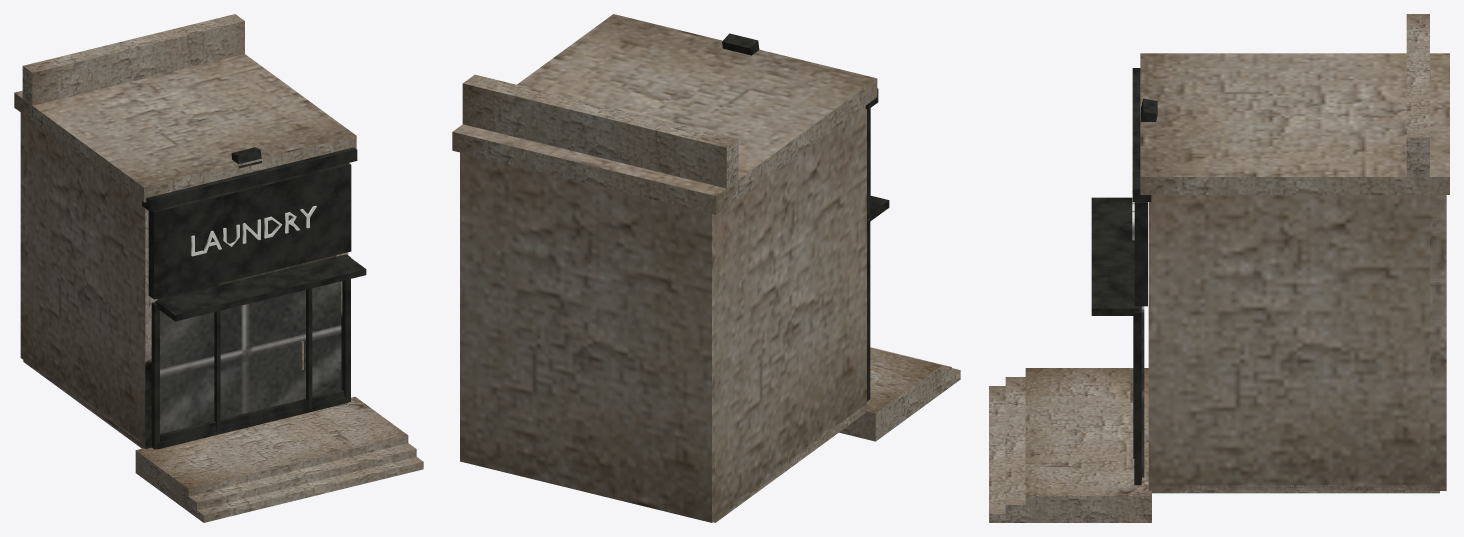
The model's file is Laundry.fbx.
The picture shows the model from 3 angles, left to right: view 1: azimuth 30°, elevation 25°; view 2: azimuth 150°, elevation 25°; view 3: azimuth 270°, elevation 25°; orthographic projection. The views are drawn at different scales.
Parts seen in each view (by area): view 1: SA2_Laundry_Mesh, SA2_Laundry_Mesh.002, SA2_Laundry_Mesh.001, SA2_Text_Laundry; view 2: SA2_Laundry_Mesh, SA2_Laundry_Mesh.002; view 3: SA2_Laundry_Mesh, SA2_Laundry_Mesh.002, SA2_Laundry_Mesh.001.
Boxes of the visible parts, x1=… form: SA2_Laundry_Mesh: x1=14, y1=14, x2=366, y2=449; SA2_Laundry_Mesh.002: x1=135, y1=396, x2=407, y2=511; SA2_Laundry_Mesh.001: x1=185, y1=435, x2=423, y2=522; SA2_Text_Laundry: x1=191, y1=205, x2=316, y2=256; SA2_Laundry_Mesh: x1=452, y1=14, x2=889, y2=522; SA2_Laundry_Mesh.002: x1=839, y1=348, x2=941, y2=441; SA2_Laundry_Mesh: x1=1091, y1=14, x2=1449, y2=493; SA2_Laundry_Mesh.002: x1=1025, y1=368, x2=1151, y2=522; SA2_Laundry_Mesh.001: x1=989, y1=377, x2=1032, y2=522.
Size of the model in its own units: 455 by 635 by 693.
Materials: 2 (1 with a texture image).
